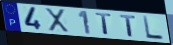1: (78, 10, 92, 36)
4: (23, 5, 45, 32)
L: (142, 15, 165, 41)
T: (119, 14, 138, 38), (94, 12, 113, 36)
X: (44, 7, 71, 33)
